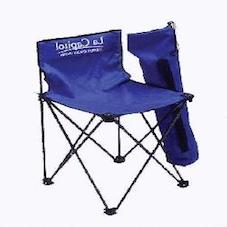chair: (23, 13, 213, 214)
